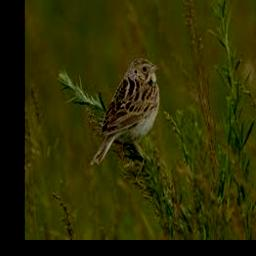Sparrow: (89, 58, 160, 167)
